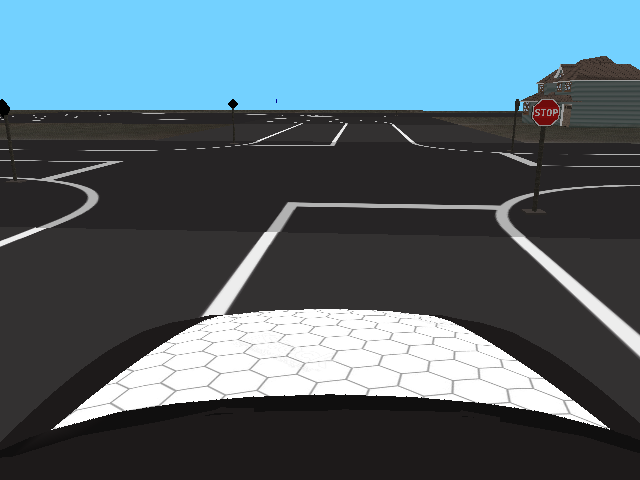stop: (532, 99, 561, 127)
